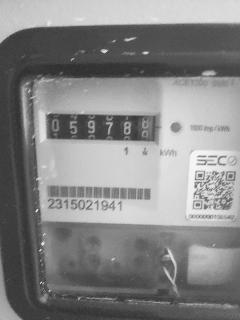1: (52, 119, 59, 131)
6: (70, 122, 77, 135)
8: (106, 123, 113, 136)
9: (123, 122, 131, 135), (142, 117, 149, 129)
:: (88, 121, 96, 134)
